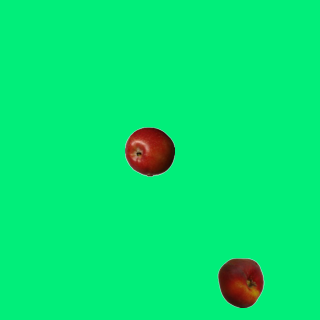Apple Braeburn: (124, 126, 174, 176)
Nectarine Flat: (215, 257, 265, 307)
